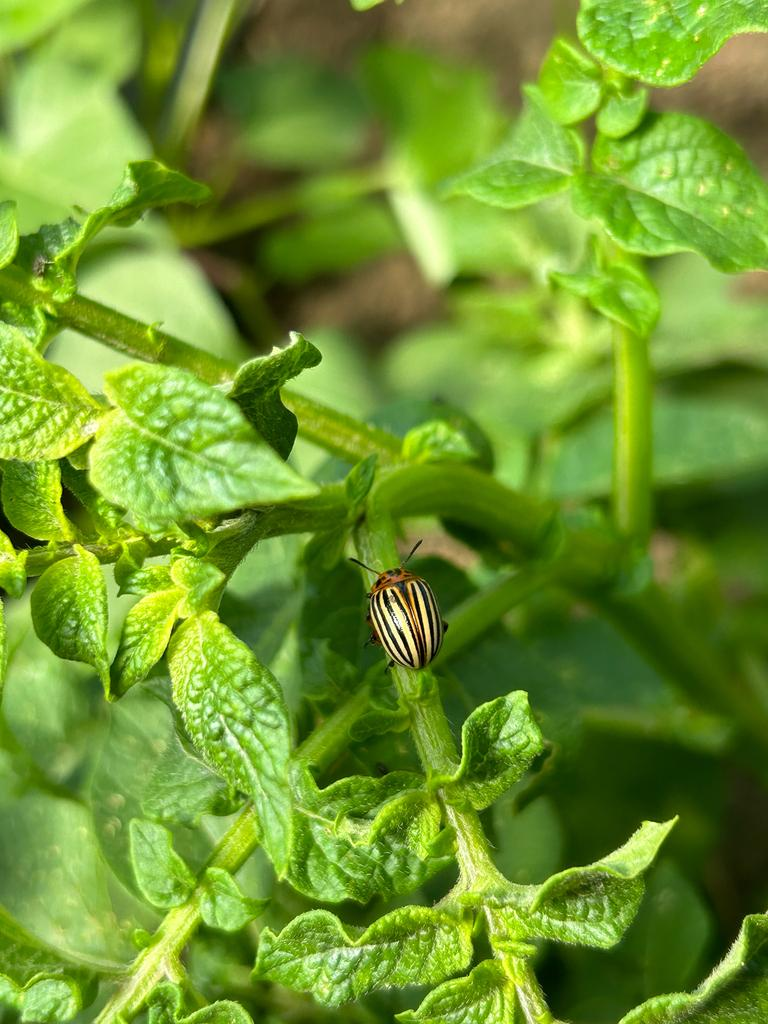potato_beetle: (302, 524, 472, 679)
